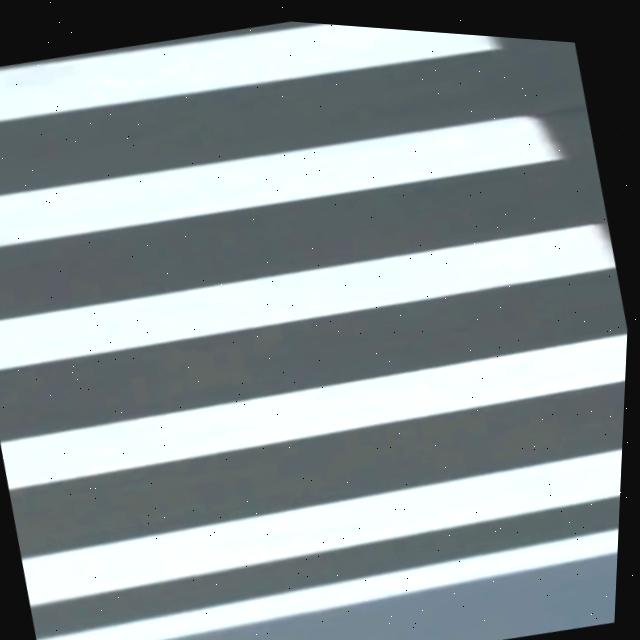left: (36, 527, 619, 640)
